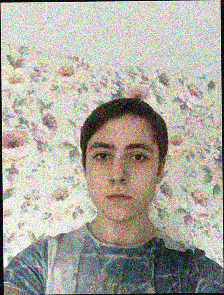without_mask: (85, 139, 160, 224)
